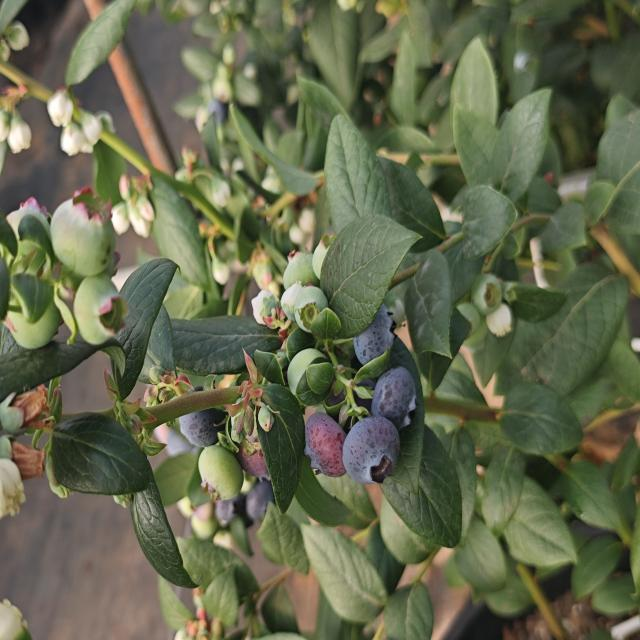ripe: (166, 377, 230, 451), (298, 408, 350, 477), (365, 367, 421, 429), (346, 413, 392, 481), (346, 301, 386, 368), (238, 476, 286, 526)
